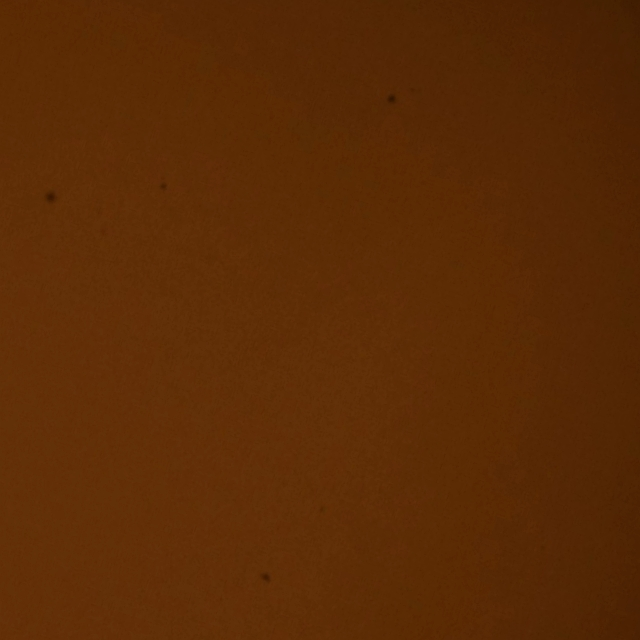sunspot: (43, 190, 58, 206), (259, 571, 273, 586), (158, 179, 169, 194), (386, 93, 398, 106)
